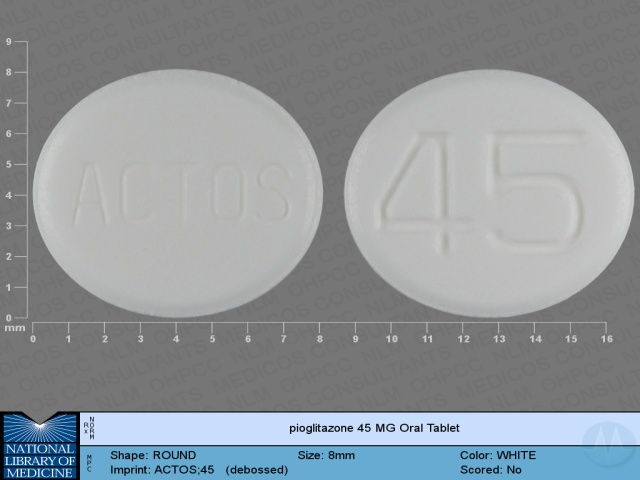4: (373, 127, 479, 263)
5: (484, 127, 595, 256)
A: (68, 158, 113, 234)
C: (113, 160, 157, 226)
O: (207, 161, 248, 228)
S: (252, 160, 290, 231)
T: (163, 153, 202, 229)
